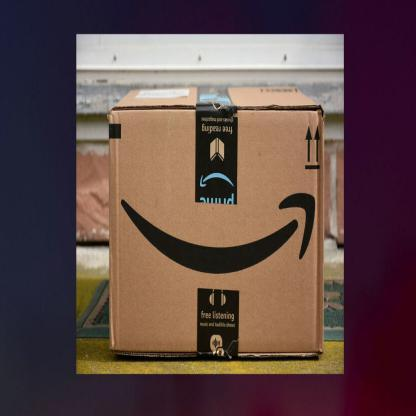package: (108, 84, 326, 360)
